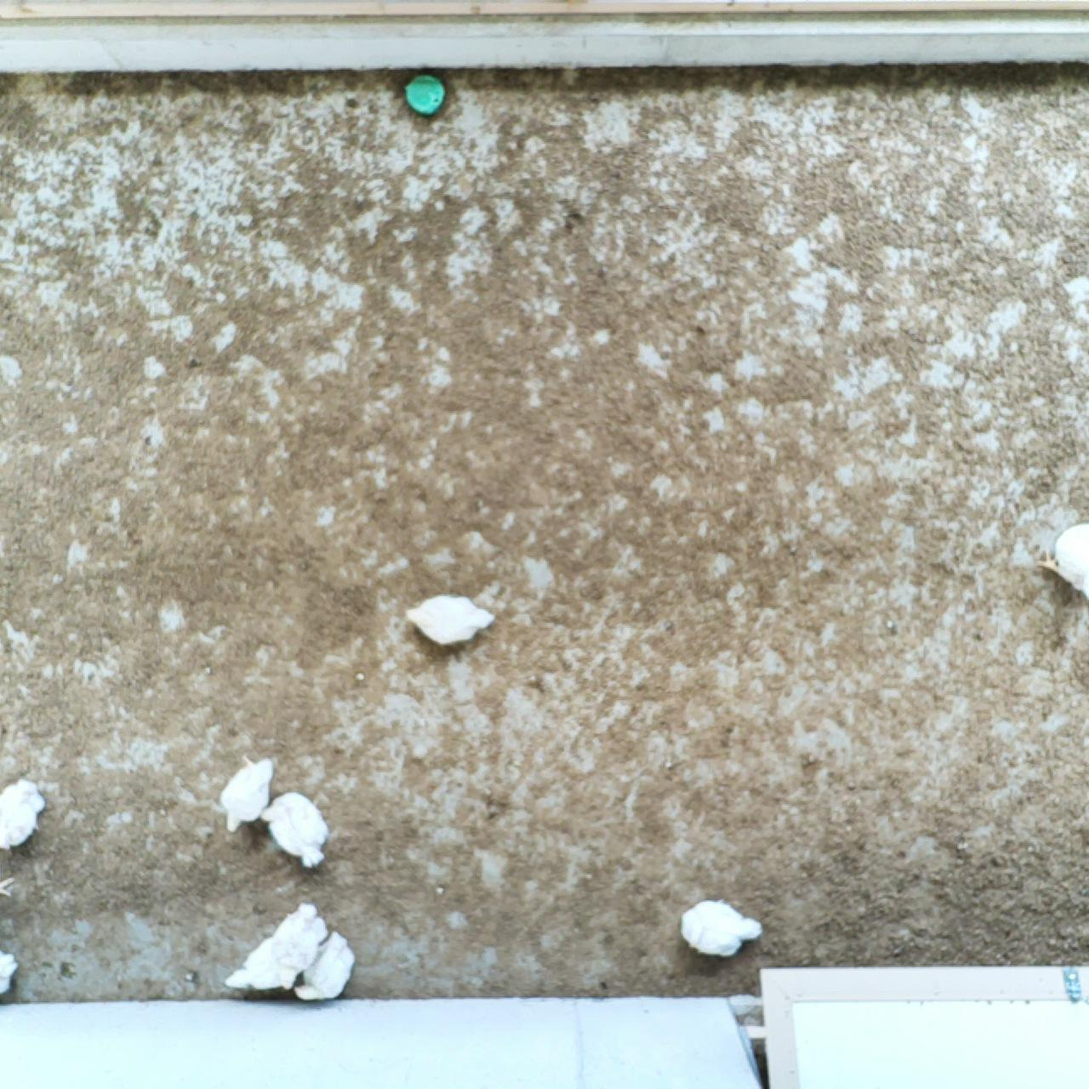chicken: (676, 896, 767, 964), (259, 790, 333, 872), (215, 753, 279, 840), (271, 902, 331, 992), (223, 928, 302, 995), (405, 593, 497, 650), (1035, 522, 1089, 607), (294, 929, 354, 1005), (0, 774, 47, 854), (0, 947, 26, 995)
